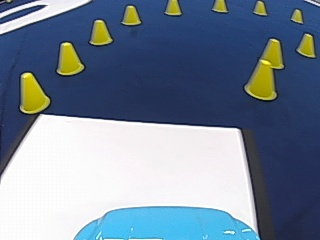cone: (243, 55, 278, 99), (18, 70, 50, 113), (55, 41, 84, 75), (259, 37, 284, 69), (88, 19, 112, 45), (296, 33, 315, 57), (121, 4, 140, 25), (164, 0, 181, 15), (252, 0, 267, 15), (290, 8, 303, 23), (212, 0, 227, 12)
